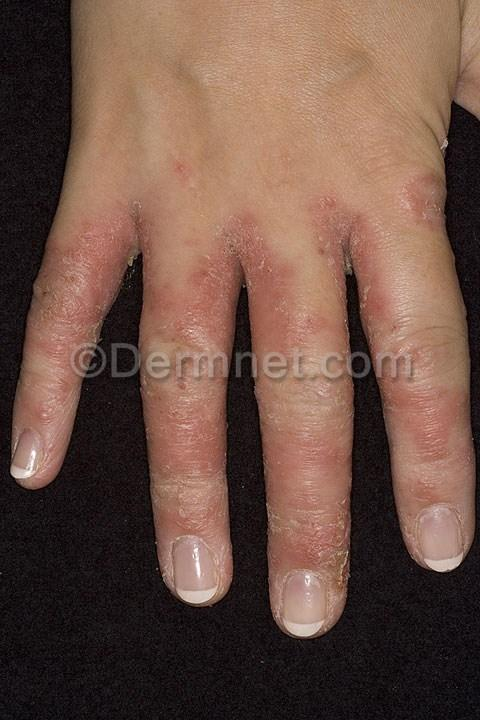Eczema: (410, 382, 480, 448), (364, 320, 420, 396), (232, 228, 294, 296), (296, 294, 356, 364), (290, 364, 343, 443), (246, 287, 297, 368), (387, 392, 431, 484), (38, 233, 92, 304), (306, 188, 366, 251), (394, 164, 447, 235), (149, 271, 202, 340), (139, 431, 193, 493), (302, 435, 349, 505), (75, 203, 127, 265), (145, 484, 192, 549), (139, 375, 190, 434), (258, 423, 305, 486), (158, 139, 210, 195), (254, 481, 309, 533), (143, 318, 189, 380), (258, 357, 302, 420), (431, 447, 475, 508), (356, 270, 406, 323), (195, 245, 236, 306), (188, 305, 225, 372), (313, 505, 352, 566), (260, 535, 322, 572), (191, 420, 222, 491), (338, 234, 389, 276), (127, 203, 169, 253), (12, 353, 49, 409), (189, 491, 231, 540), (50, 345, 88, 398), (82, 261, 122, 310), (32, 307, 71, 357), (198, 365, 229, 422), (73, 309, 101, 349), (328, 547, 349, 599), (394, 478, 428, 510), (45, 405, 73, 437), (39, 430, 62, 465), (222, 538, 233, 573), (310, 131, 311, 132)
